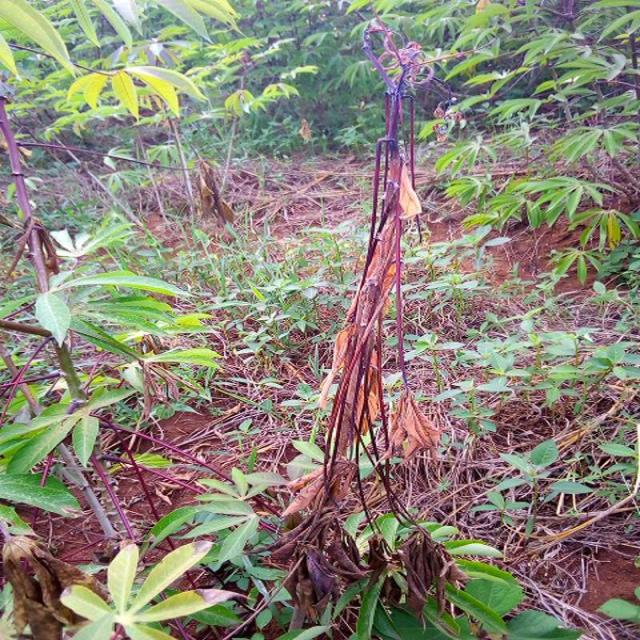cassava leaf: (58, 536, 221, 638)
